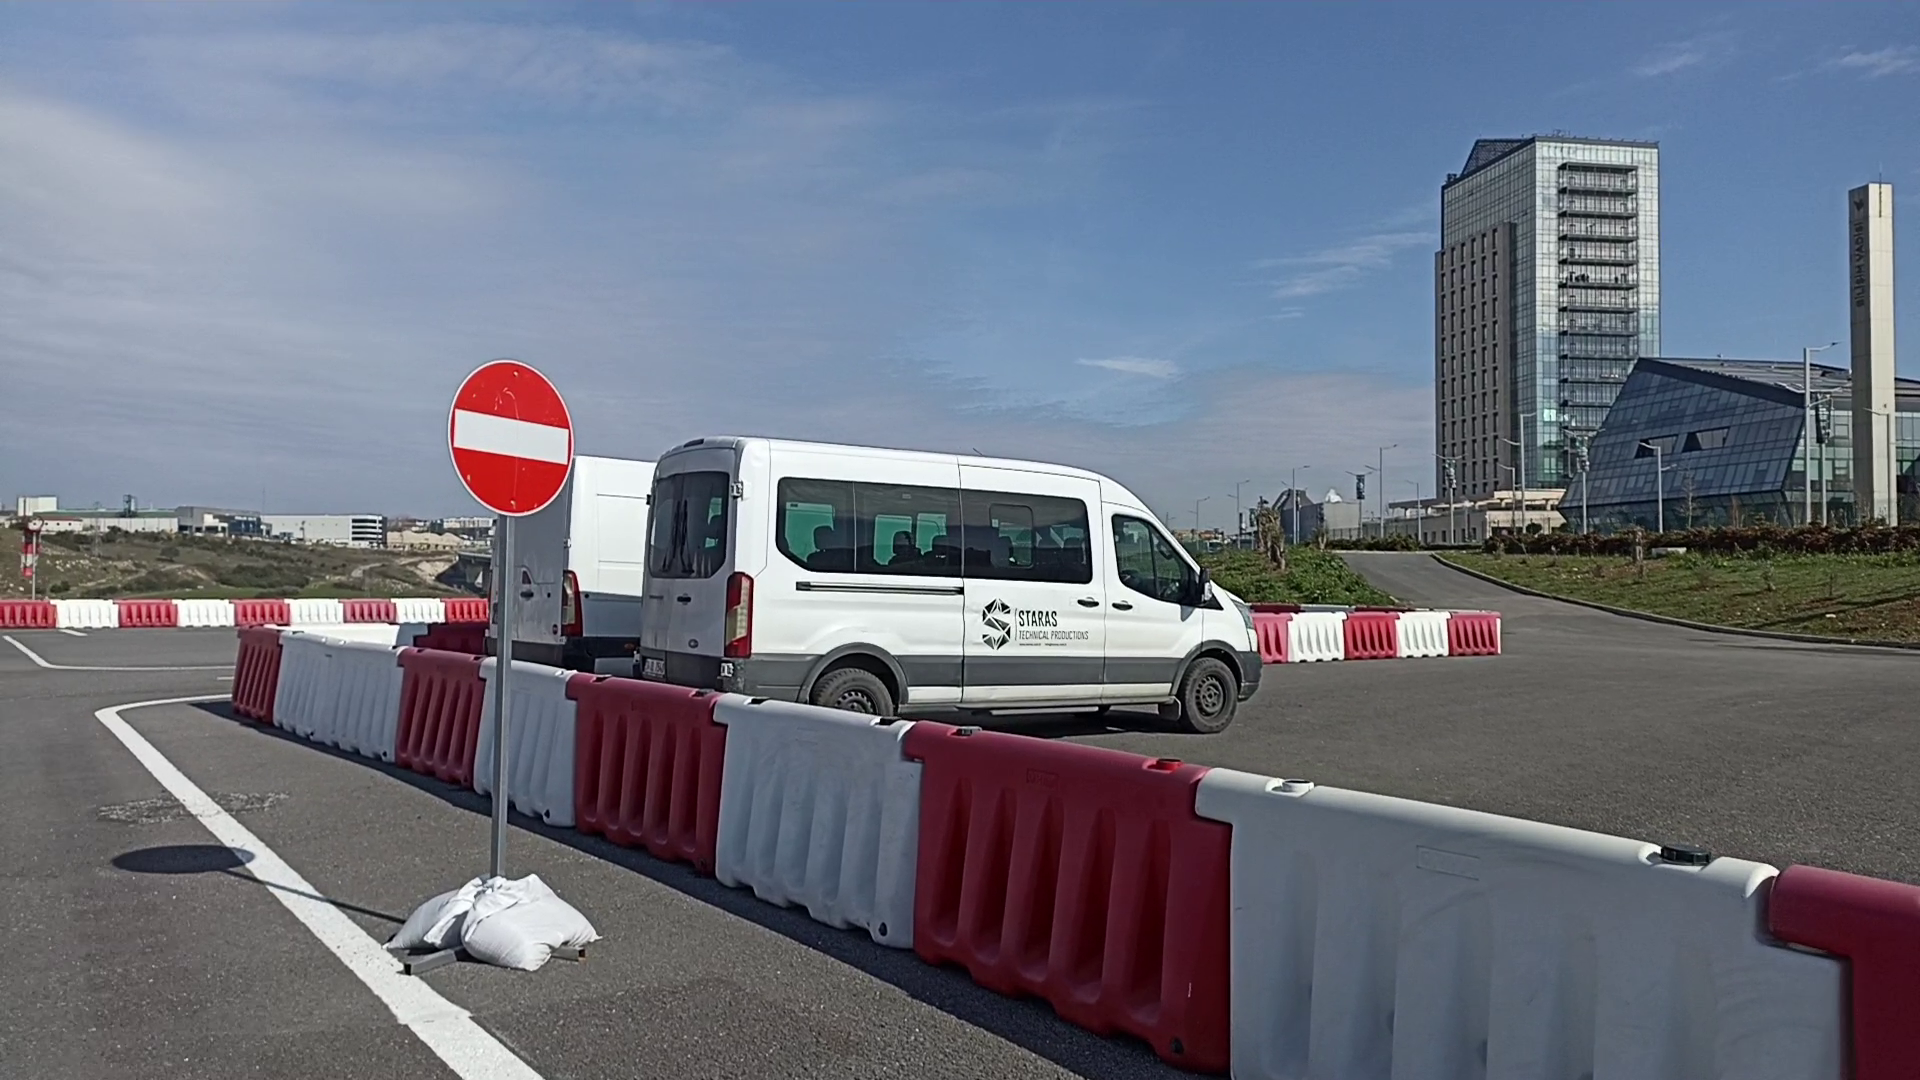noentryway: (444, 356, 579, 521)
